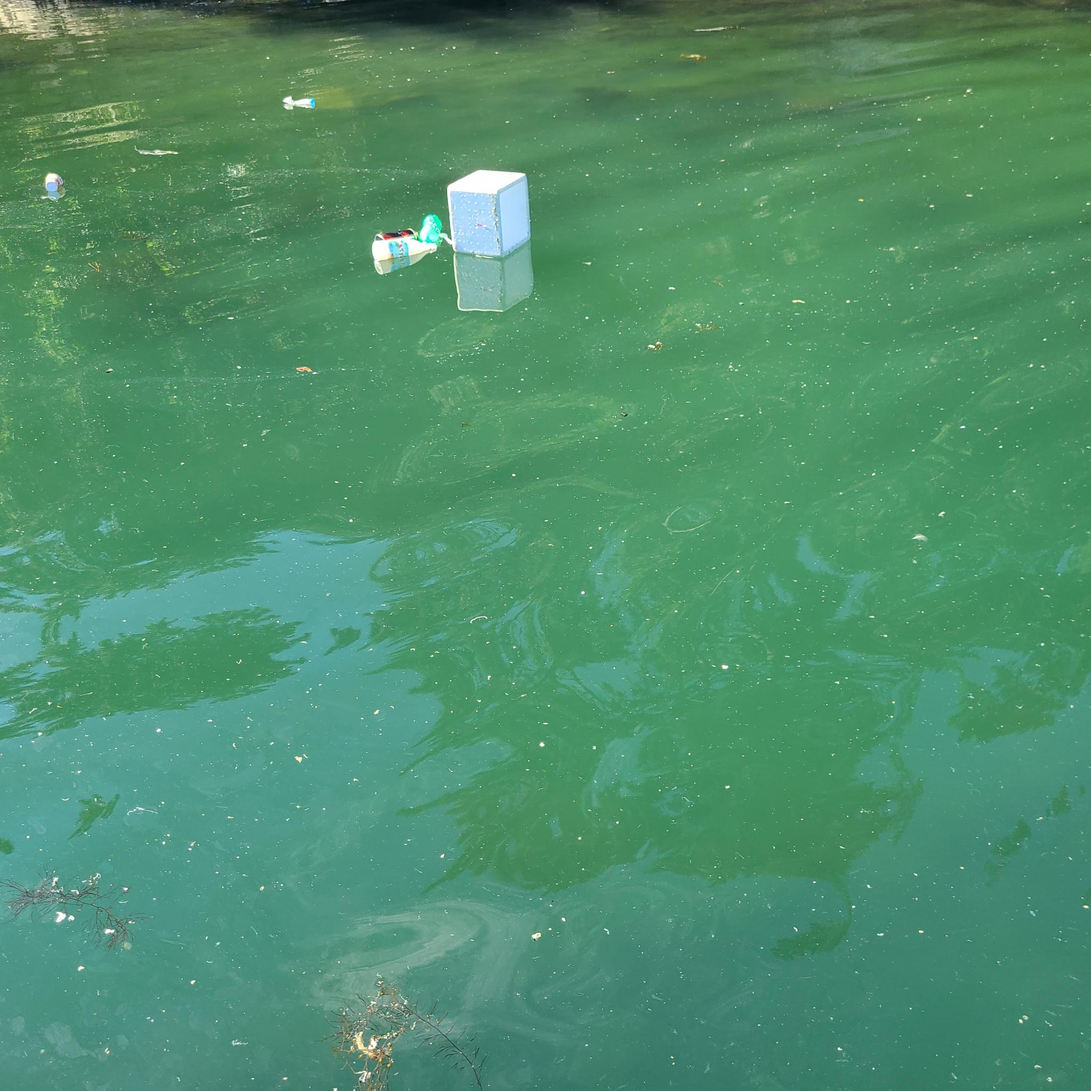sampah_terapung: (447, 170, 532, 258), (372, 240, 438, 262), (375, 228, 419, 241), (45, 174, 64, 192), (283, 96, 315, 105)
